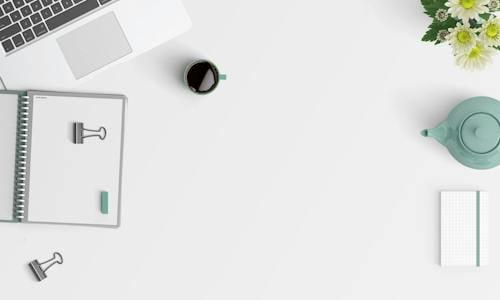Mug: (165, 51, 244, 123)
